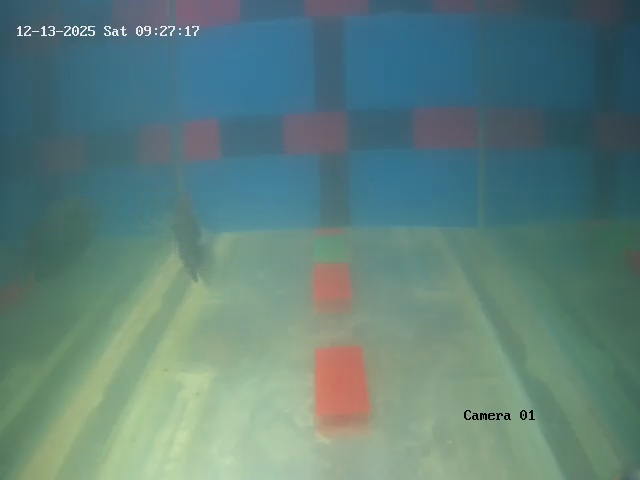fish: (146, 190, 237, 280)
